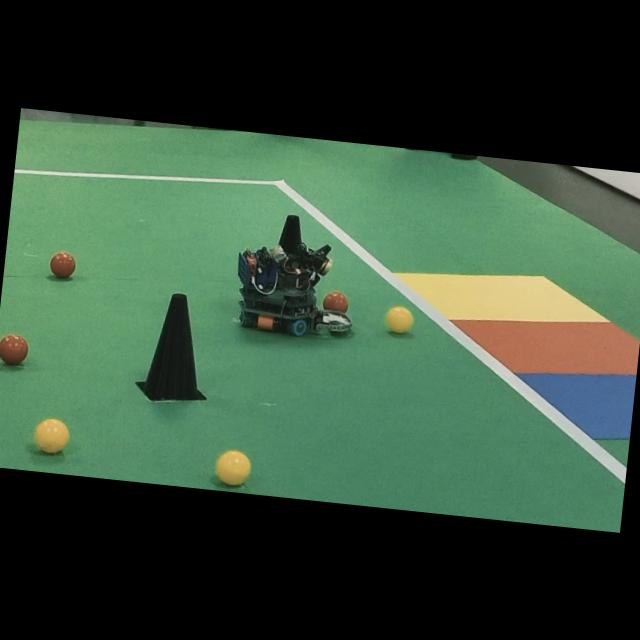ball: (215, 450, 251, 485), (34, 418, 69, 452), (0, 334, 28, 364), (385, 305, 413, 333), (49, 251, 75, 278), (322, 290, 348, 312)
goal: (395, 272, 608, 322), (452, 319, 640, 375), (517, 372, 635, 438)
